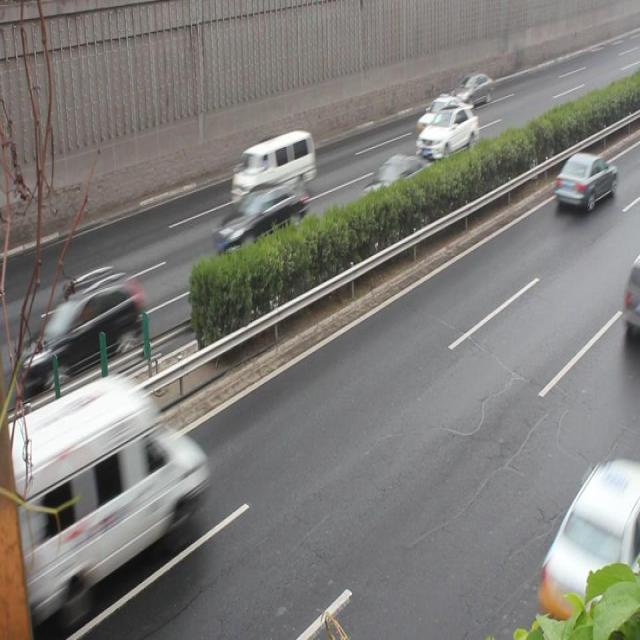car: (21, 375, 203, 596), (22, 266, 142, 394), (540, 454, 639, 609), (213, 179, 308, 255), (353, 151, 431, 224), (552, 148, 615, 206), (413, 102, 476, 159), (415, 92, 468, 140), (447, 70, 490, 108)
